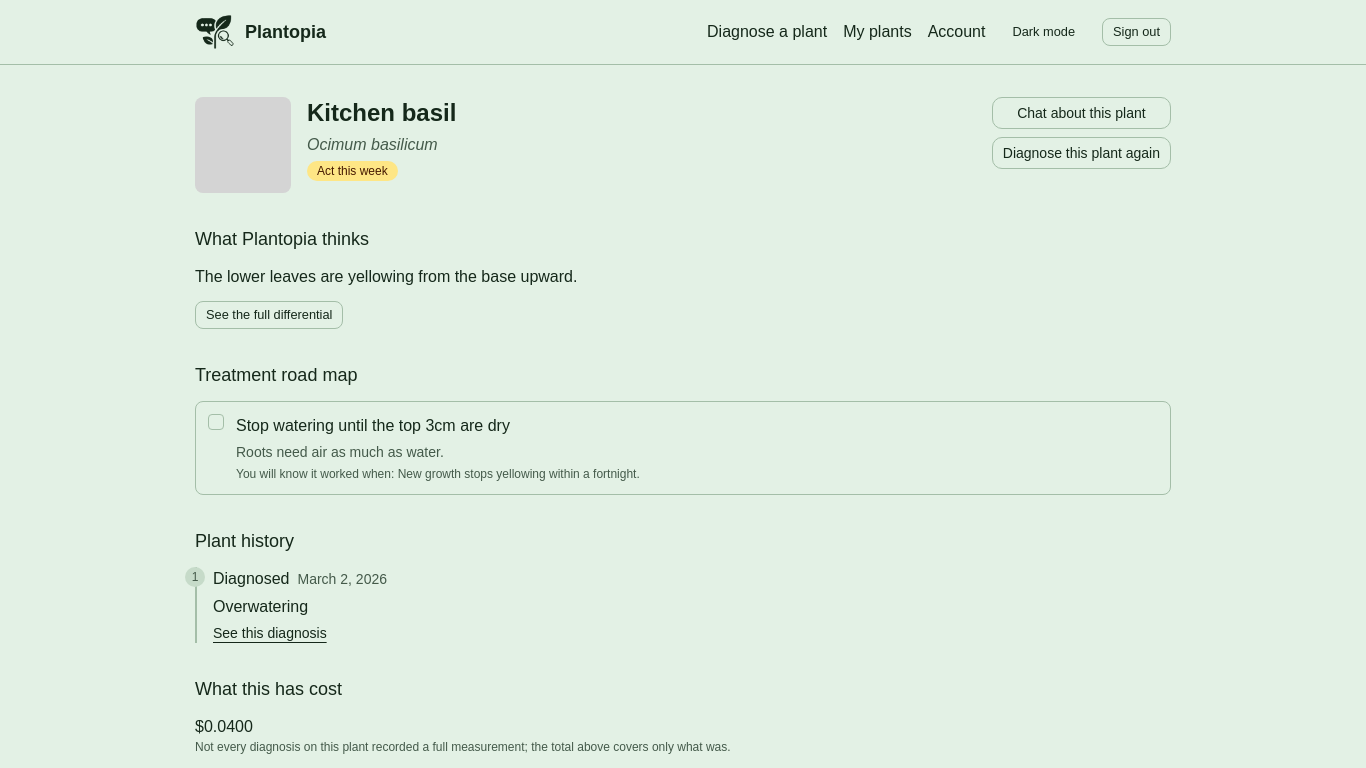
Test case: the plan › shows the change without a manual reload
Click the checkbox named "Stop watering until the top 3cm are dry": click(216, 422) x1=208 y1=414 x2=224 y2=430
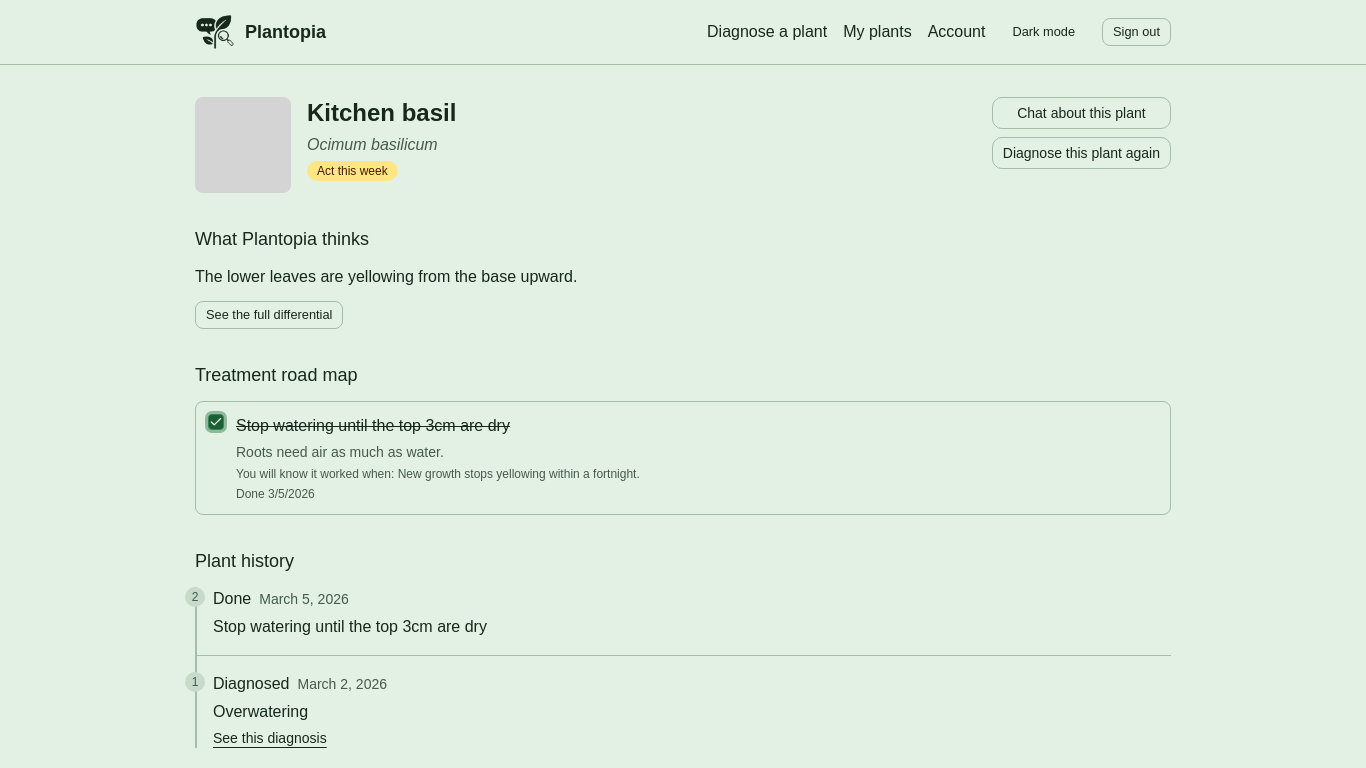
Result: the text "Done 3/5/2026" is shown at x1=236 y1=487 x2=315 y2=501
